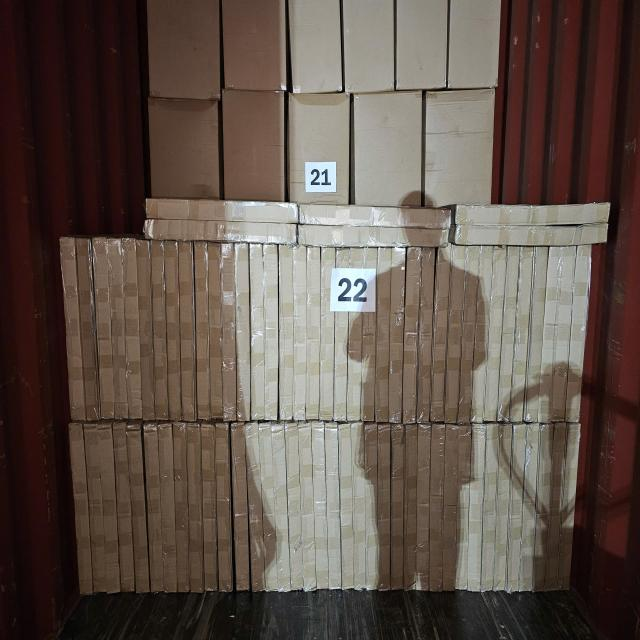Carton: (281, 243, 375, 421), (94, 235, 182, 419), (514, 420, 580, 595), (194, 242, 248, 430), (234, 423, 292, 598), (343, 418, 398, 587), (426, 90, 499, 208), (352, 92, 422, 210), (97, 236, 136, 428), (147, 0, 221, 99), (150, 98, 221, 199), (220, 91, 284, 203), (287, 94, 349, 206), (143, 421, 181, 596), (162, 421, 200, 595), (64, 234, 97, 431), (220, 0, 286, 90), (116, 422, 148, 595), (85, 422, 116, 599), (253, 246, 282, 427), (202, 422, 232, 594), (437, 422, 466, 593), (403, 423, 432, 592), (447, 0, 502, 88), (287, 0, 340, 91), (343, 0, 395, 91), (464, 247, 490, 427), (398, 0, 450, 89), (411, 248, 434, 428), (440, 247, 462, 427), (190, 421, 212, 596), (509, 247, 529, 433), (432, 247, 452, 428), (405, 248, 424, 429), (180, 243, 198, 429), (429, 422, 448, 592)
